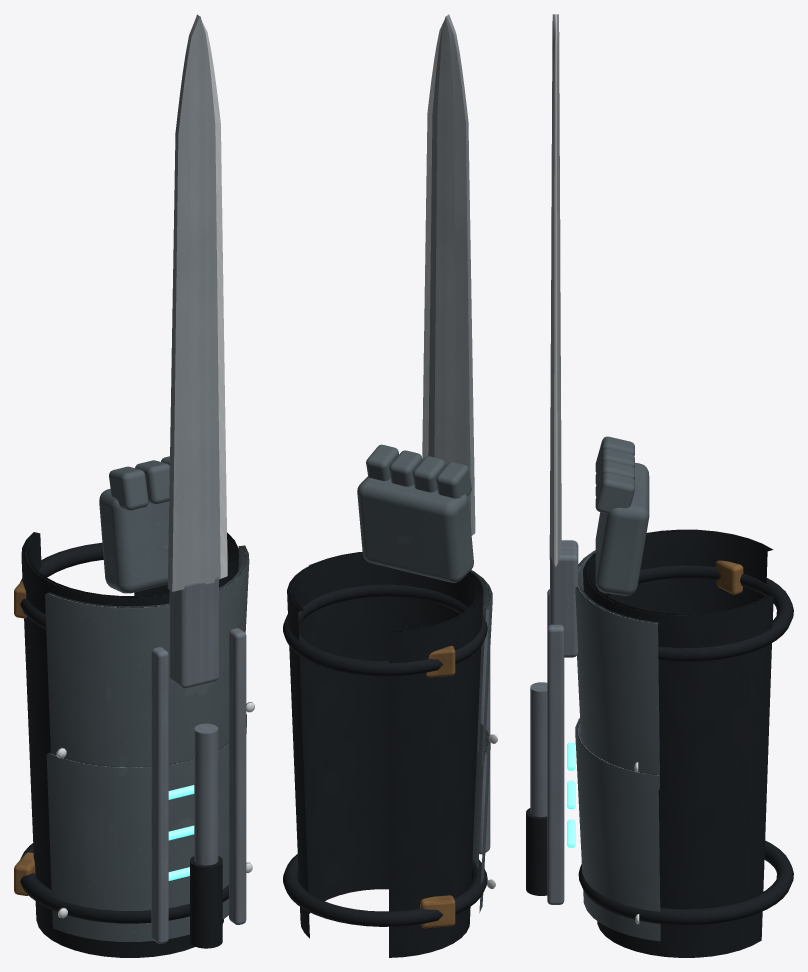
File: servo-blade.glb
3 views of the same model, side by side, from view 1: azimuth 30°, elevation 25°; view 2: azimuth 150°, elevation 25°; view 3: azimuth 270°, elevation 25° (orthographic). The views are drawn at different scales.
Visible parts, largest first — view 1: ceramic / ceramic composite panel, steel / forged blade steel, alloy / machined anodized alloy, polymer / stippled polymer, edge / honed bright bevel, bronze / cast bronze with patina, energy / emissive field channel; view 2: polymer / stippled polymer, steel / forged blade steel, ceramic / ceramic composite panel, edge / honed bright bevel, bronze / cast bronze with patina, alloy / machined anodized alloy; view 3: polymer / stippled polymer, ceramic / ceramic composite panel, alloy / machined anodized alloy, steel / forged blade steel, edge / honed bright bevel, energy / emissive field channel, bronze / cast bronze with patina.
Boxes of the visible parts, bbox=[...] form: ceramic / ceramic composite panel: bbox=[45, 456, 249, 941]; steel / forged blade steel: bbox=[167, 14, 220, 591]; alloy / machined anodized alloy: bbox=[151, 576, 246, 943]; polymer / stippled polymer: bbox=[20, 532, 238, 957]; edge / honed bright bevel: bbox=[56, 20, 254, 918]; bronze / cast bronze with patina: bbox=[14, 580, 35, 895]; energy / emissive field channel: bbox=[168, 785, 194, 880]; polymer / stippled polymer: bbox=[283, 552, 487, 957]; steel / forged blade steel: bbox=[428, 14, 475, 535]; ceramic / ceramic composite panel: bbox=[308, 444, 492, 912]; edge / honed bright bevel: bbox=[422, 21, 497, 888]; bronze / cast bronze with patina: bbox=[420, 646, 455, 928]; alloy / machined anodized alloy: bbox=[479, 609, 490, 854]; polymer / stippled polymer: bbox=[526, 529, 793, 957]; ceramic / ceramic composite panel: bbox=[575, 436, 660, 941]; alloy / machined anodized alloy: bbox=[530, 540, 578, 904]; steel / forged blade steel: bbox=[549, 14, 561, 563]; edge / honed bright bevel: bbox=[554, 14, 639, 924]; energy / emissive field channel: bbox=[567, 742, 575, 847]; bronze / cast bronze with patina: bbox=[715, 560, 743, 594].
Size of the model in its own units: 0.155 by 0.705 by 0.1889.
Materials: 7 (6 with a texture image).
